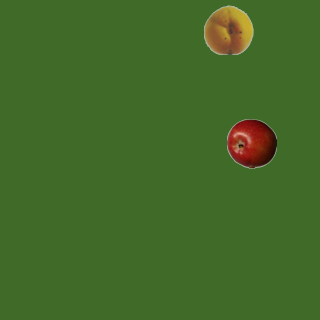Apple Braeburn: (226, 118, 276, 168)
Peach 2: (203, 4, 253, 54)
